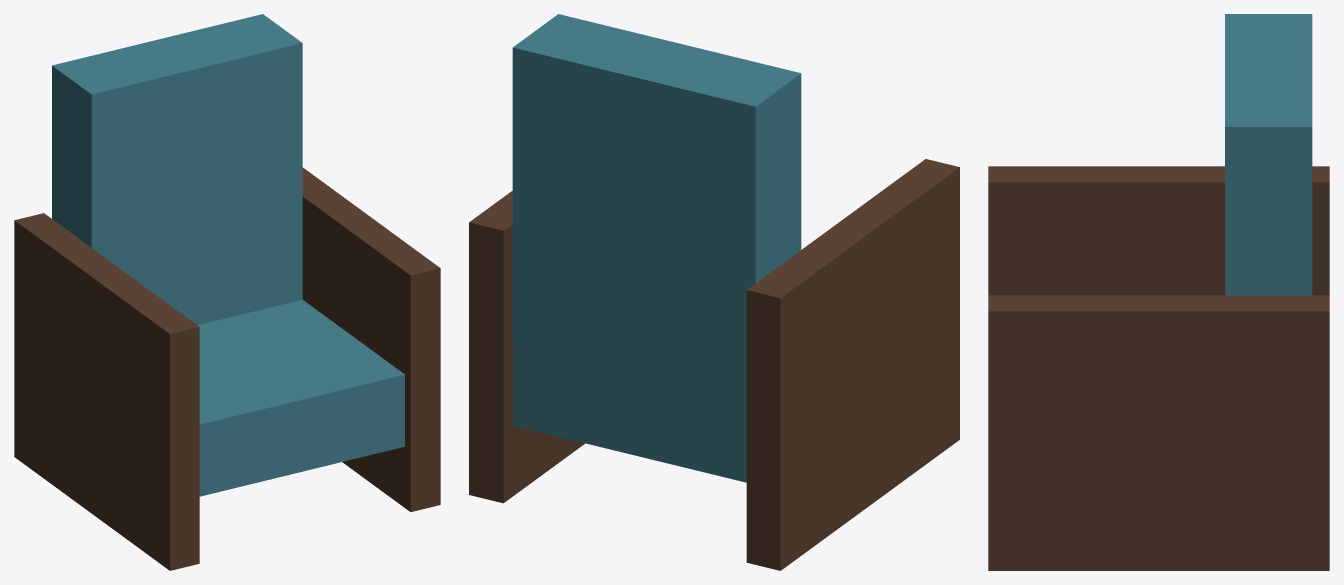
Rendered from scene_armchair.fbx.
The picture shows the model from 3 angles, left to right: view 1: azimuth 30°, elevation 25°; view 2: azimuth 150°, elevation 25°; view 3: azimuth 270°, elevation 25°; orthographic projection. The views are drawn at different scales.
Visible parts, largest first — view 1: mesh_armchair; view 2: mesh_armchair; view 3: mesh_armchair.
Boxes of the visible parts, <box> form: mesh_armchair: <box>14,14,440,570</box>; mesh_armchair: <box>469,14,959,570</box>; mesh_armchair: <box>988,14,1329,570</box>.
Size of the model in its own units: 0.8799 by 1.21 by 0.8769.
